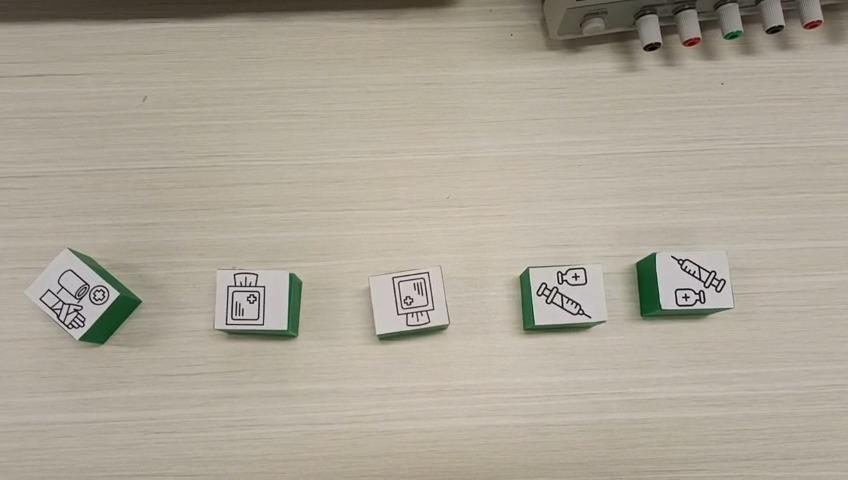Bandages: (20, 247, 142, 345)
Gauze: (367, 264, 452, 340), (215, 268, 303, 339)
antiseptic cream: (633, 247, 735, 318), (517, 262, 608, 331)
